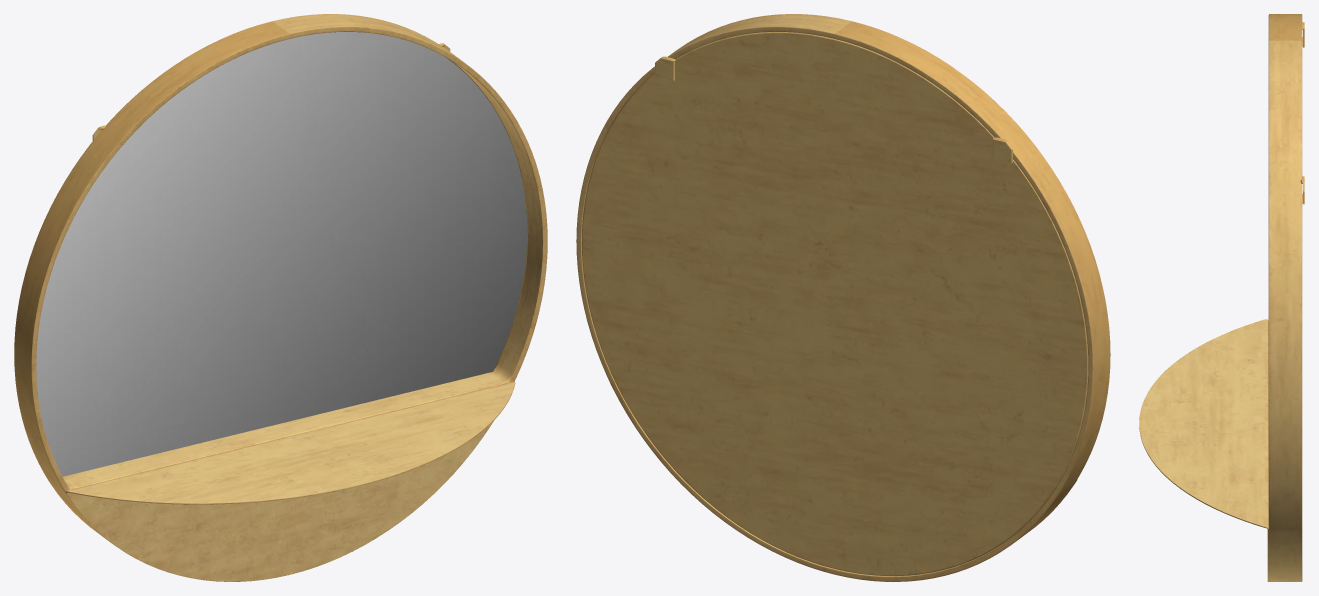
File: B084HTZ2C6.glb
The picture shows the model from 3 angles, left to right: view 1: azimuth 30°, elevation 25°; view 2: azimuth 150°, elevation 25°; view 3: azimuth 270°, elevation 25°; orthographic projection. The views are drawn at different scales.
Visible parts, largest first — view 1: RootNode; view 2: RootNode; view 3: RootNode.
Boxes of the visible parts, box(x1,y1,x2,y2) form: RootNode: box(14, 14, 547, 581); RootNode: box(576, 14, 1110, 581); RootNode: box(1139, 14, 1304, 581).
Bounding box in the file's own units: 0.4572 × 0.4572 × 0.1333.
Materials: 1 (1 with a texture image).
